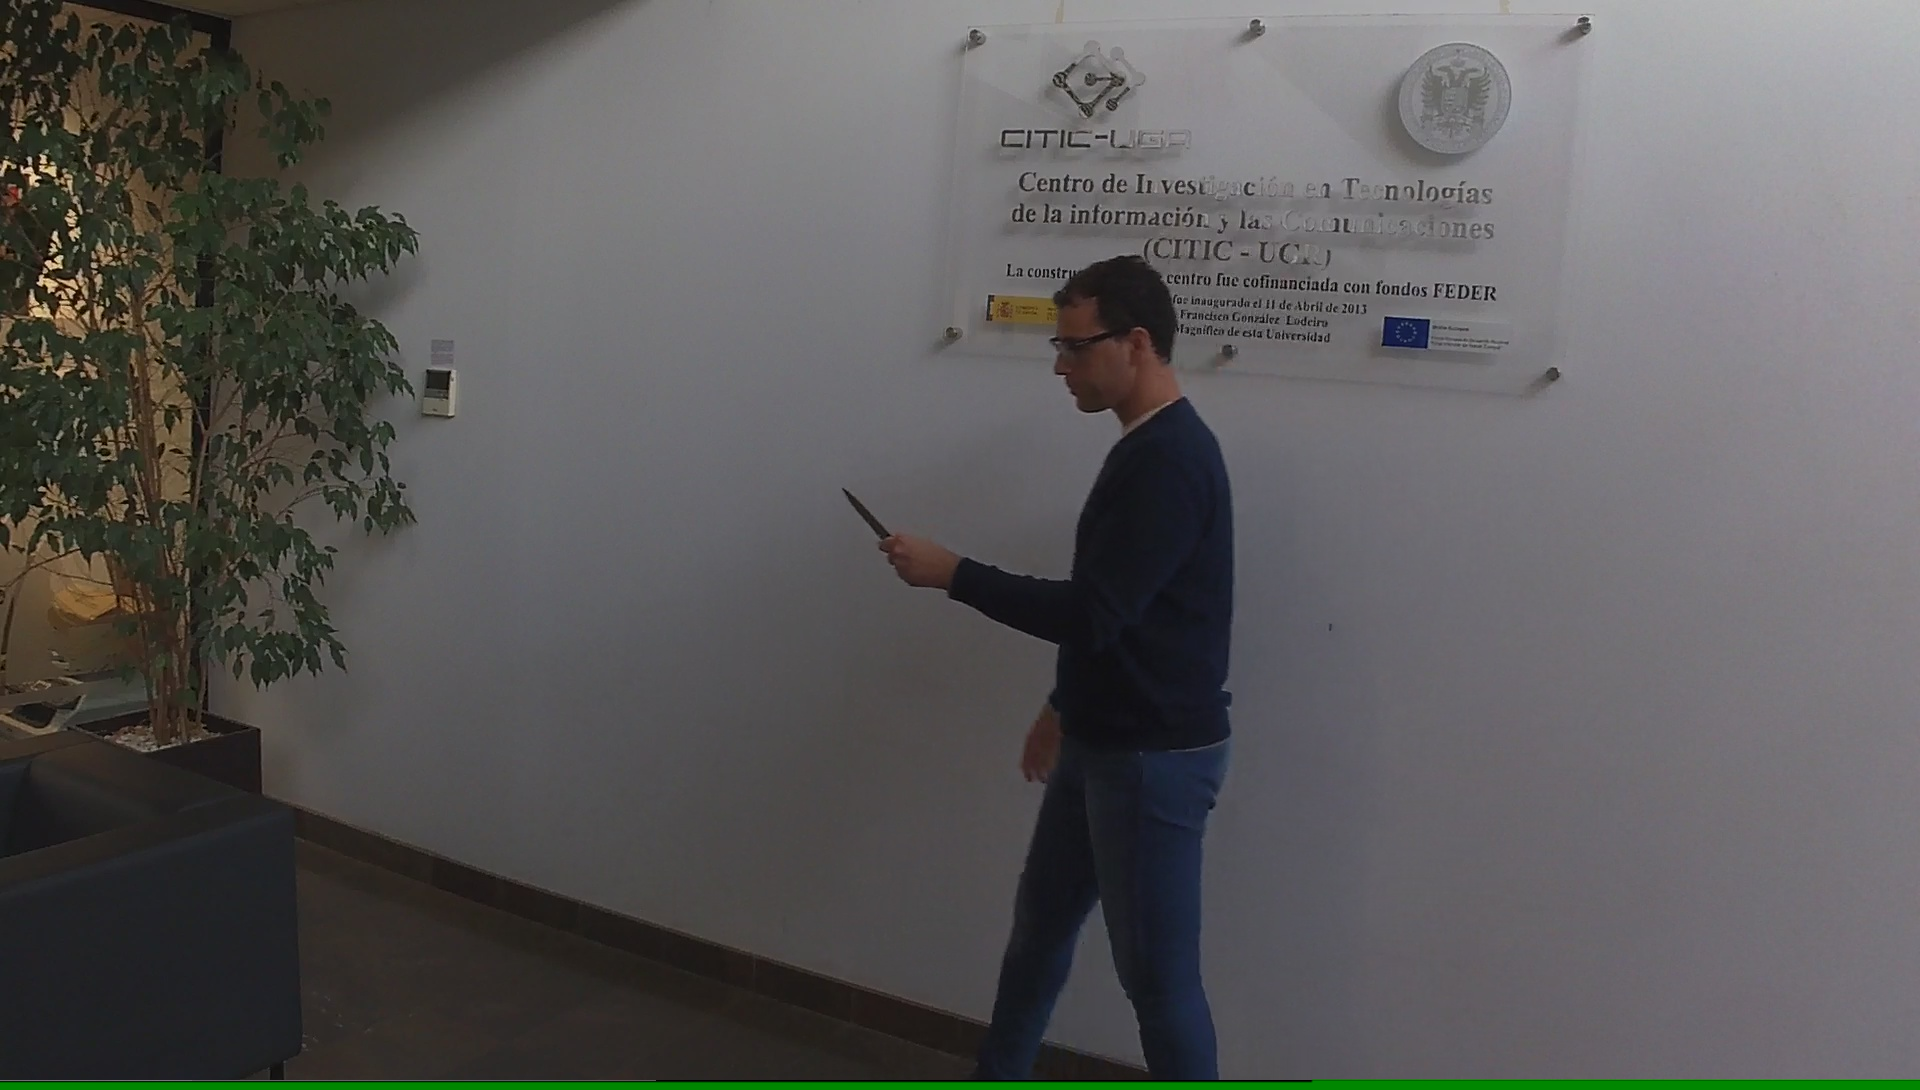knife: (832, 480, 924, 576)
